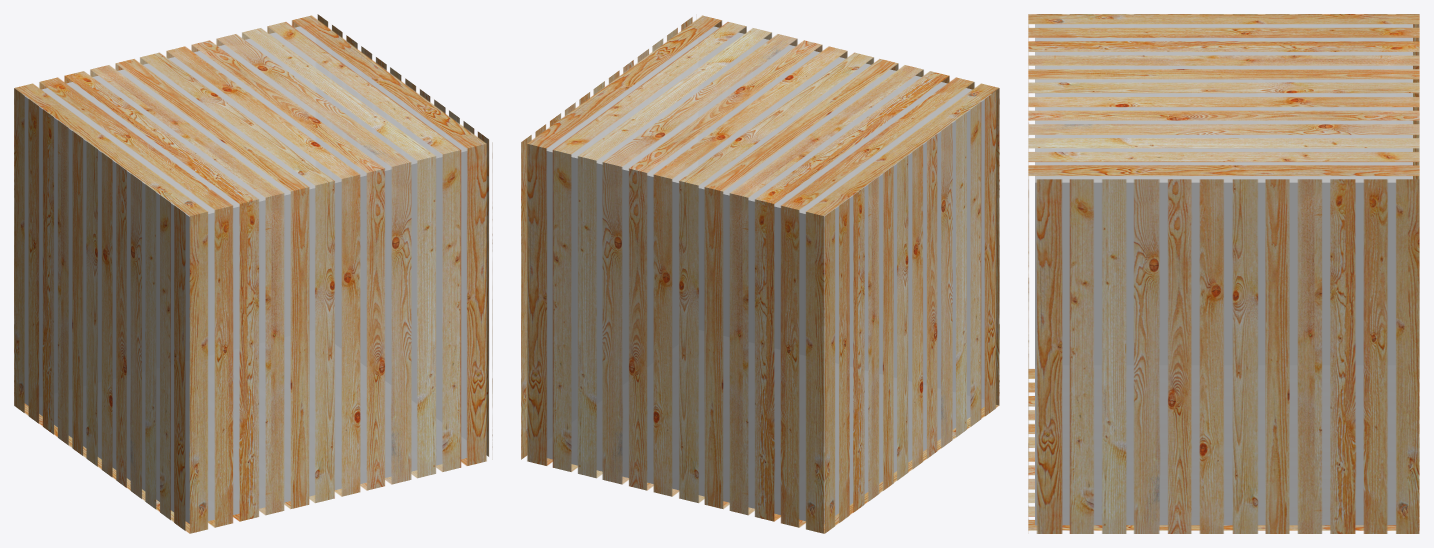
Rendered from wood_decking_batten_like_model_if_you_download.glb.
3 renders of one model, left to right at view 1: azimuth 30°, elevation 25°; view 2: azimuth 150°, elevation 25°; view 3: azimuth 270°, elevation 25°, orthographic. The views are drawn at different scales.
Size of the model in its own units: 300 by 300 by 300.
Materials: 2 (1 with a texture image).
